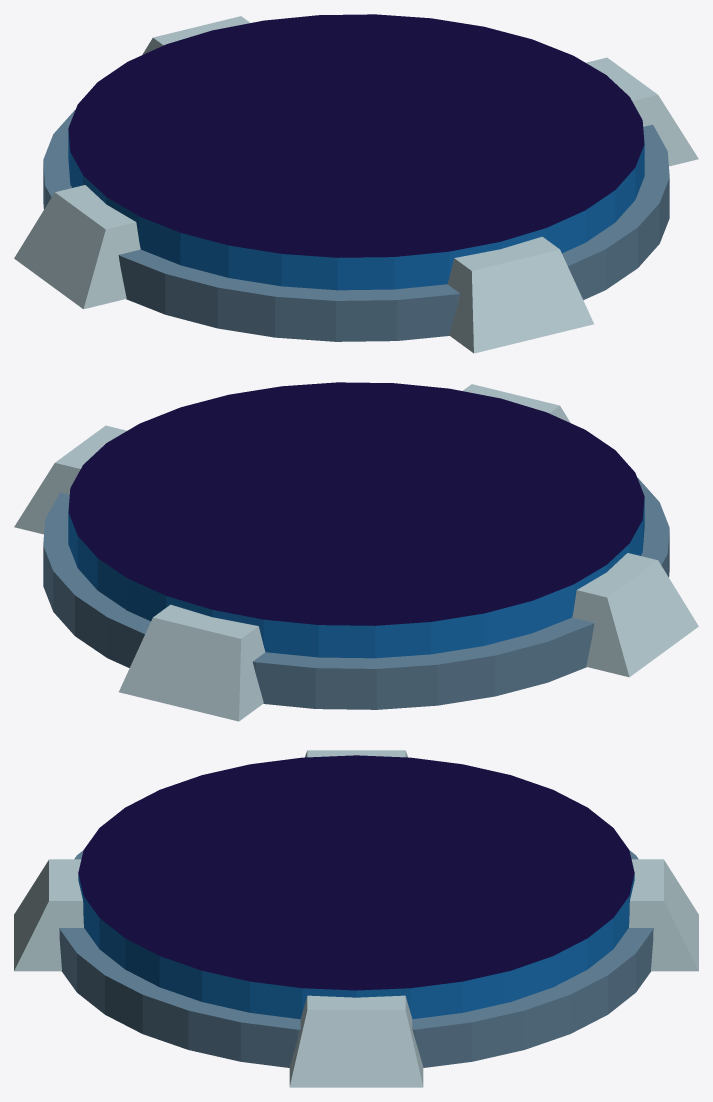
Rendered from StandingPlatform.fbx.
The picture shows the model from 3 angles, top to bottom: view 1: azimuth 30°, elevation 25°; view 2: azimuth 150°, elevation 25°; view 3: azimuth 270°, elevation 25°; orthographic projection. The views are drawn at different scales.
Parts seen in each view (by area): view 1: Platform, BlueStrip; view 2: Platform, BlueStrip; view 3: Platform, BlueStrip.
Boxes of the visible parts, <box> form: Platform: <box>14,14,698,353</box>; BlueStrip: <box>68,129,644,290</box>; Platform: <box>14,382,698,721</box>; BlueStrip: <box>68,497,644,658</box>; Platform: <box>14,750,698,1087</box>; BlueStrip: <box>78,874,634,1019</box>.
Size of the model in its own units: 2.81 by 0.3206 by 2.81.
